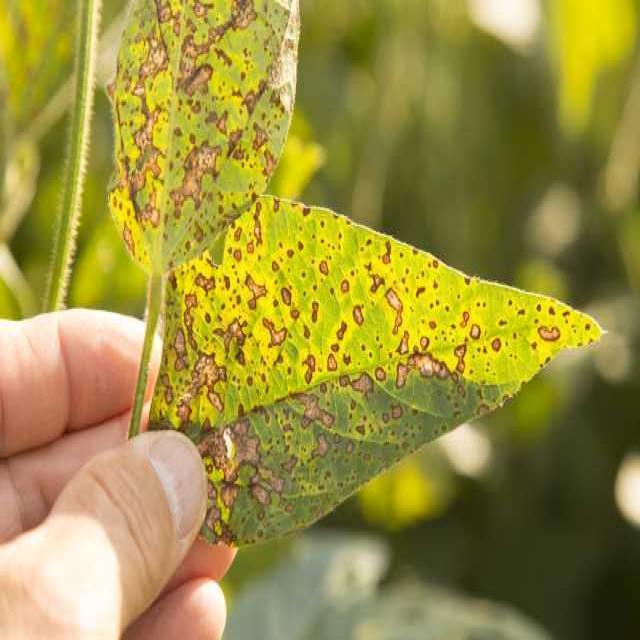Septoria: (182, 188, 567, 512), (116, 0, 286, 234)
